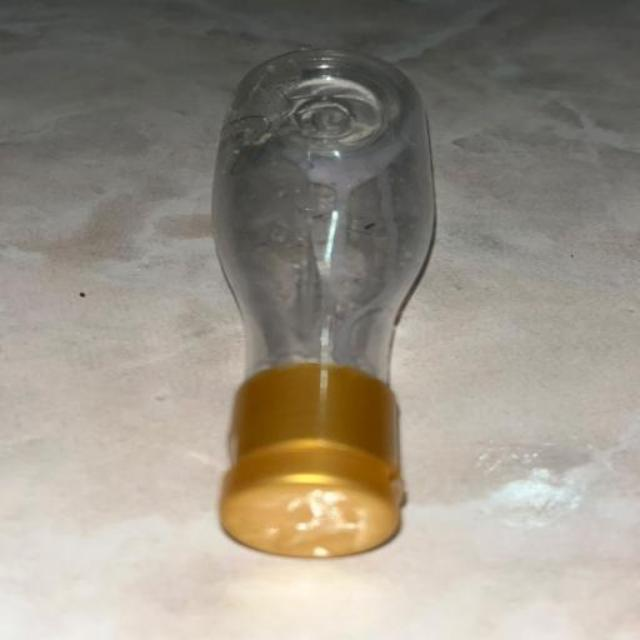PET: (121, 35, 555, 582)
